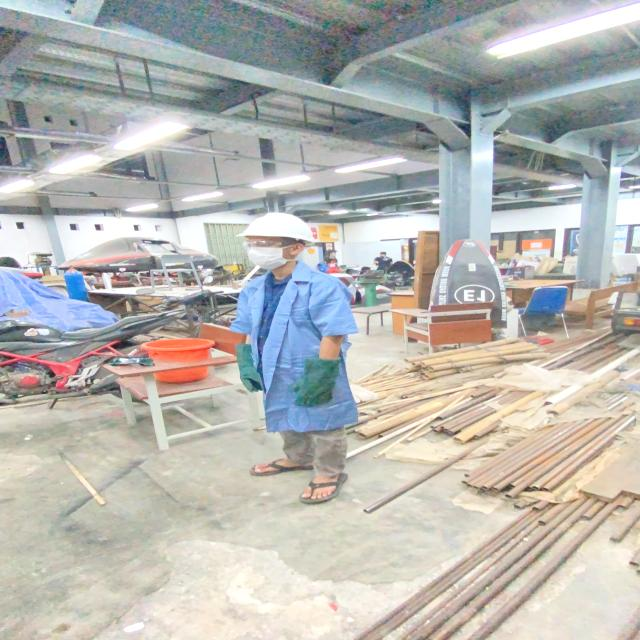face_mask: (241, 236, 290, 268)
glasses: (239, 238, 294, 252)
hand_glove: (286, 372, 340, 409), (236, 362, 270, 395)
head_helmet: (228, 212, 317, 243)
person: (224, 209, 365, 505)
